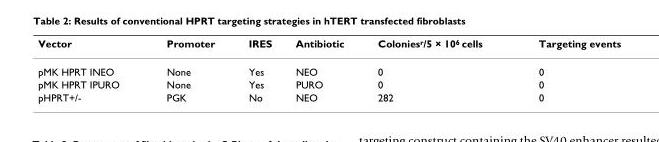table: (37, 36, 620, 103)
table column: (360, 36, 509, 103), (509, 36, 620, 103), (37, 36, 142, 103), (142, 36, 231, 103), (283, 36, 360, 103), (231, 36, 283, 103)
table column header: (37, 36, 620, 57)
table row: (37, 36, 620, 57), (37, 57, 620, 77), (37, 77, 620, 90), (37, 90, 620, 103)
